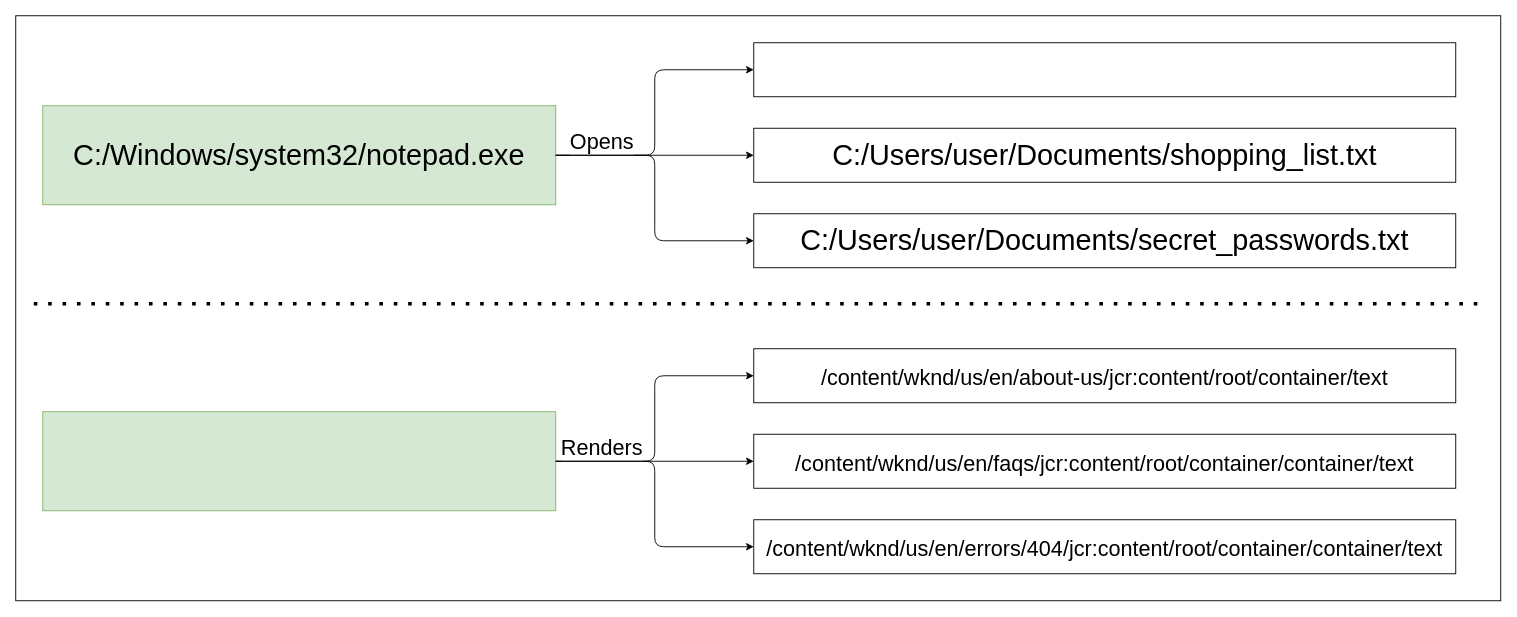
Some shapes in this 1517 by 617 pixel diagram are drawn without their labels. The shapes that lost their labels are listed below. From the top down, each one's centre as x and y in pixels, then its label:
the point at 1104,69: C:/Users/user/Documents/notes.txt
the point at 299,461: /apps/wknd/components/text
